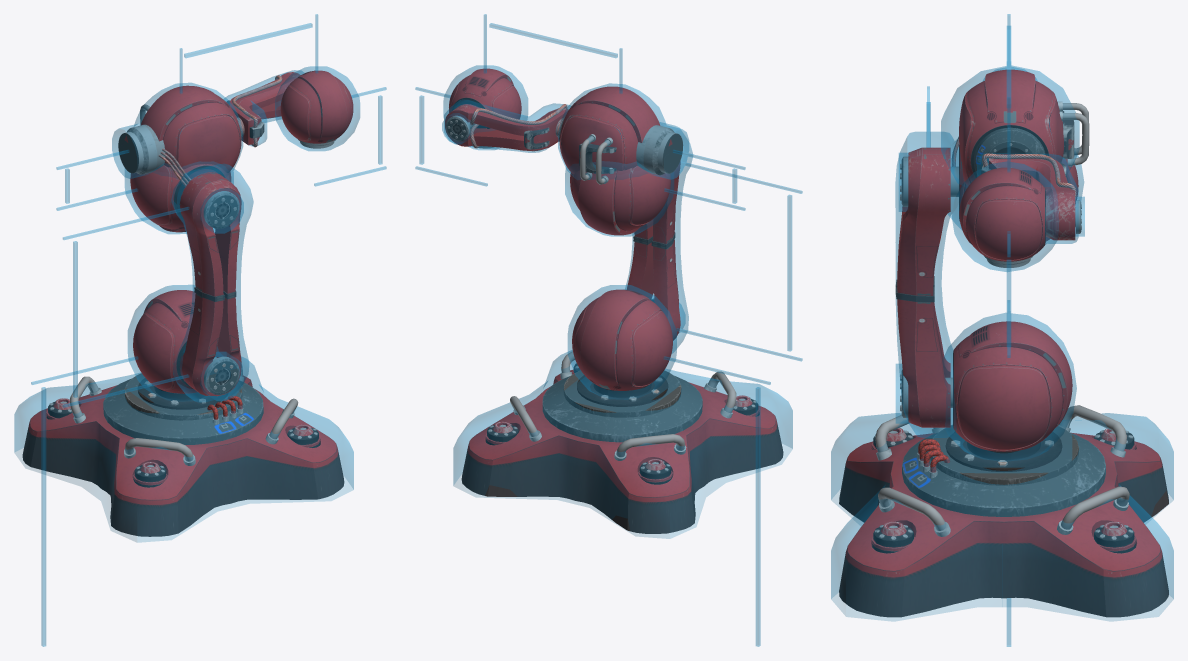
The model's file is Robot Arm.fbx.
3 renders of one model, left to right at view 1: azimuth 30°, elevation 25°; view 2: azimuth 150°, elevation 25°; view 3: azimuth 270°, elevation 25°, orthographic. The views are drawn at different scales.
Visible parts, largest first — view 1: Base_Highlight, Base, J2_Highlight, J3_Highlight, J3_Mesh, J1_Highlight, J2_Mesh, J5_Highlight, J1_Mesh, J5_Mesh, J4_Highlight, J4_Mesh; view 2: Base_Highlight, Base, J3_Highlight, J3_Mesh, J1_Highlight, J1_Mesh, J2_Highlight, J4_Highlight, J5_Highlight, J2_Mesh, J4_Mesh, J5_Mesh; view 3: Base_Highlight, Base, J1_Highlight, J2_Highlight, J1_Mesh, J3_Highlight, J2_Mesh, J5_Highlight, J3_Mesh, J5_Mesh, J4_Mesh, J4_Highlight.
Part boxes in pixels (<box>): Base_Highlight: <box>14,357,353,542</box>; Base: <box>22,366,344,536</box>; J2_Highlight: <box>63,164,253,407</box>; J3_Highlight: <box>56,83,243,233</box>; J3_Mesh: <box>118,85,241,232</box>; J1_Highlight: <box>31,285,244,646</box>; J2_Mesh: <box>179,172,241,396</box>; J5_Highlight: <box>275,66,386,186</box>; J1_Mesh: <box>133,290,239,394</box>; J5_Mesh: <box>280,70,353,148</box>; J4_Highlight: <box>180,14,317,146</box>; J4_Mesh: <box>226,72,300,147</box>; Base_Highlight: <box>453,350,792,538</box>; Base: <box>461,351,783,533</box>; J3_Highlight: <box>558,83,745,236</box>; J3_Mesh: <box>559,86,683,235</box>; J1_Highlight: <box>568,285,770,646</box>; J1_Mesh: <box>572,289,672,390</box>; J2_Highlight: <box>625,122,802,361</box>; J4_Highlight: <box>444,14,622,152</box>; J5_Highlight: <box>415,65,527,186</box>; J2_Mesh: <box>626,161,680,340</box>; J4_Mesh: <box>445,104,571,151</box>; J5_Mesh: <box>446,68,521,148</box>; Base_Highlight: <box>831,413,1173,621</box>; Base: <box>839,405,1168,617</box>; J1_Highlight: <box>896,300,1076,646</box>; J2_Highlight: <box>895,86,958,437</box>; J1_Mesh: <box>900,321,1072,451</box>; J3_Highlight: <box>899,65,1083,243</box>; J2_Mesh: <box>895,147,950,427</box>; J5_Highlight: <box>952,161,1084,357</box>; J3_Mesh: <box>900,69,1089,241</box>; J5_Mesh: <box>959,167,1081,267</box>; J4_Mesh: <box>975,127,1076,240</box>; J4_Highlight: <box>977,14,1078,243</box>.
Size of the model in its own units: 70.99 by 108 by 46.81.
Materials: 2 (1 with a texture image).
